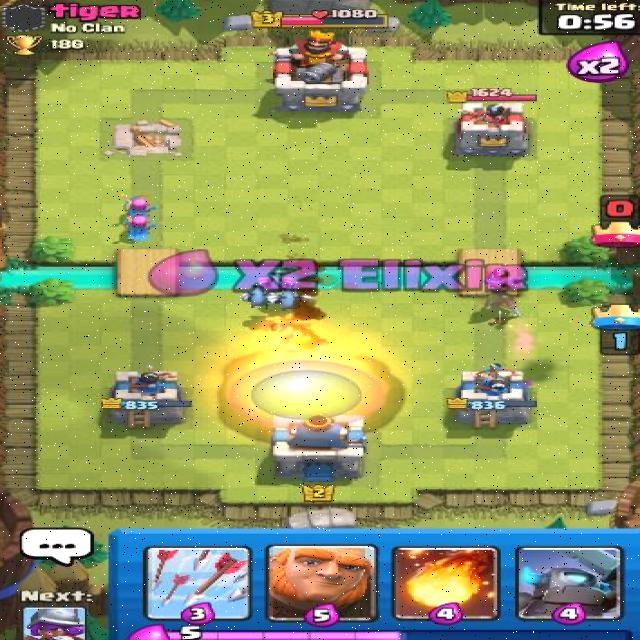Enemy-Musketeer: (482, 268, 520, 299)
Player-Archer: (112, 211, 163, 242), (114, 190, 163, 221)
Player-Minion: (268, 287, 320, 314), (239, 283, 282, 312), (257, 268, 300, 294)
